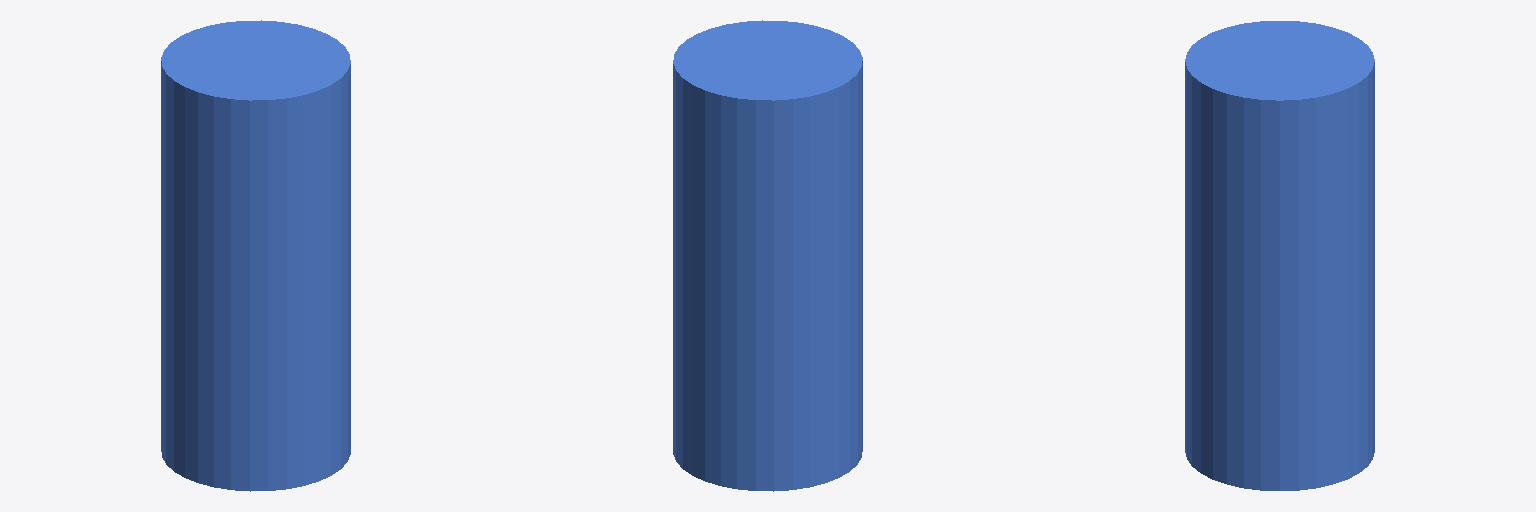
The robot description file, URDF, robot "fr3_link5_2_robot":
<?xml version="0.0" ?>
<robot name="fr3_link5_2_robot">
  <link name="base_link">
    <inertial>
      <origin rpy="0 0 0" xyz="0 0 0"/>
       <mass value=".1"/>
       <inertia ixx="1" ixy="0" ixz="0" iyy="1" iyz="0" izz="1"/>
    </inertial>
    
    <visual>
      <origin rpy="0 0 0" xyz="0 0 0.00"/>
      <geometry>
        <cylinder length="0.25" radius="0.055"/>
      </geometry>
      <material name="cornflowerblue">
        <color rgba="0.3921 0.5843 0.9294 0.8"/>
      </material>
    </visual>
  </link>
</robot>

--- Render facts (derived) ---
3 views of the same robot in one strip: view 1: azimuth 30°, elevation 25°; view 2: azimuth 150°, elevation 25°; view 3: azimuth 270°, elevation 25° (orthographic).
Robot: fr3_link5_2_robot — 1 links, 0 joints (none); root link base_link; default pose: all joints at 0.
Visible links, largest first — view 1: base_link; view 2: base_link; view 3: base_link.
Link boxes in pixels (x1,y1,x2,y2): base_link: (161, 20, 350, 491); base_link: (673, 20, 862, 491); base_link: (1185, 21, 1374, 490).
Bounding box of the posed robot: 0.11 × 0.11 × 0.25 m (x, y, z).
Geometry: primitives only (box / cylinder / sphere), no mesh files.